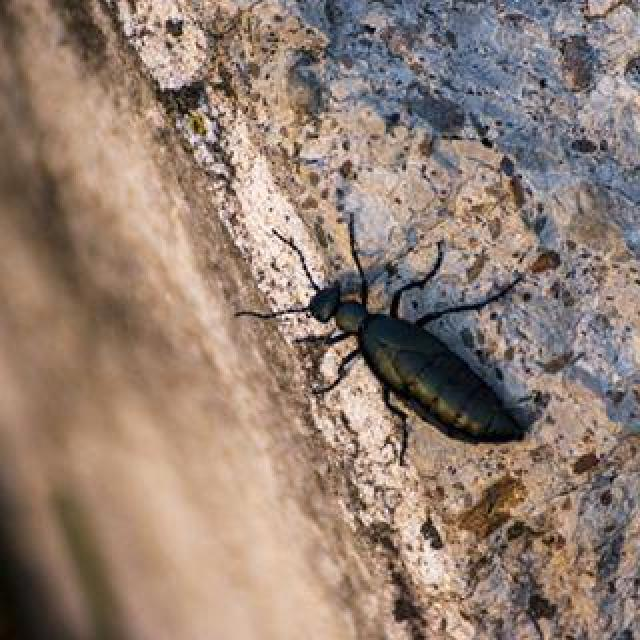BlisterBeetle-Adult-: (245, 216, 553, 454)
